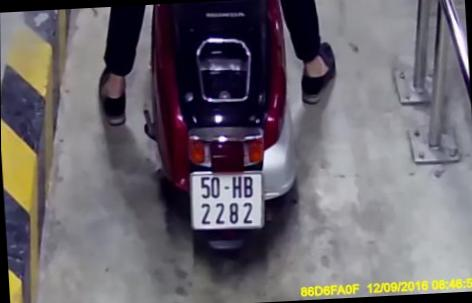LP: (185, 167, 267, 233)
